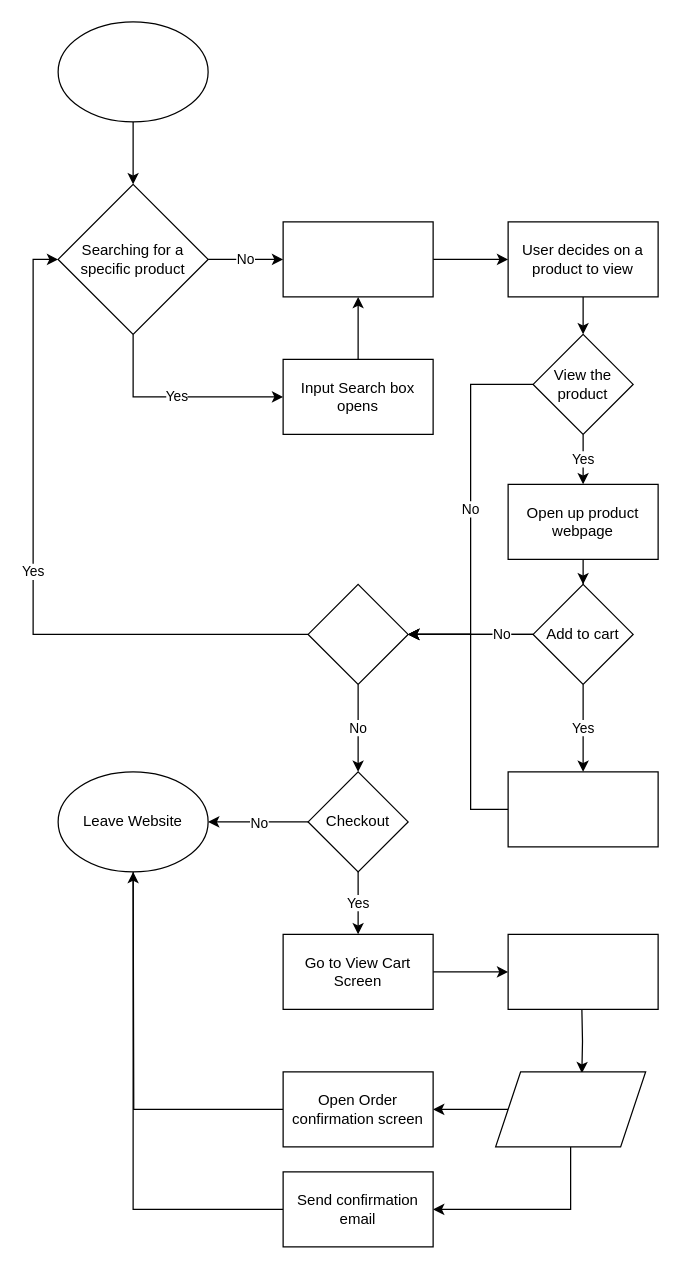
The diagram is 680 pixels wide and 1269 high, and some of its shapes have lost their labels. The shapes that lost their labels are listed below. From the top down, each one's centre as x and y in pixels, then its label:
At pixel 132 71: "User Enters the Website".
At pixel 357 259: "User begins browsing".
At pixel 357 633: "Continue Shopping".
At pixel 582 809: "Display add cart confirmation".
At pixel 582 971: "Go to View Payment Screen".
At pixel 570 1109: "Input of payment information".
